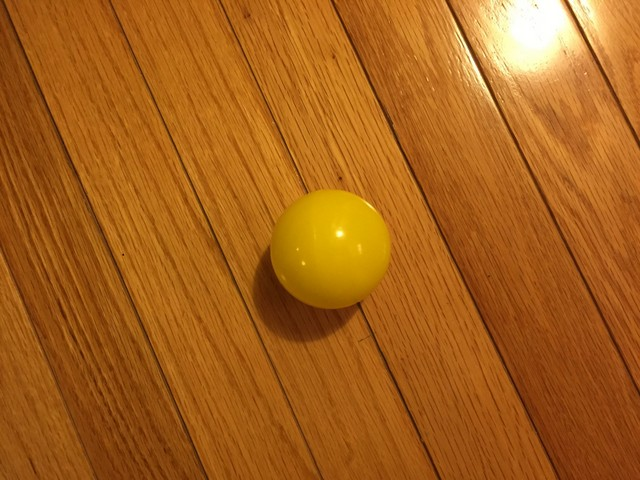Ball: (270, 189, 388, 309)
